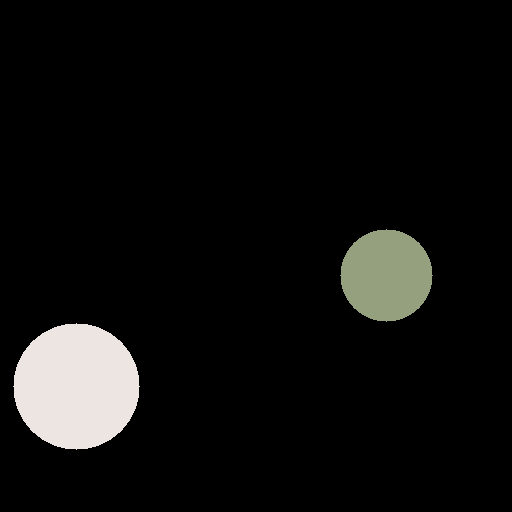circle: (13, 323, 139, 449), (340, 229, 432, 321)
